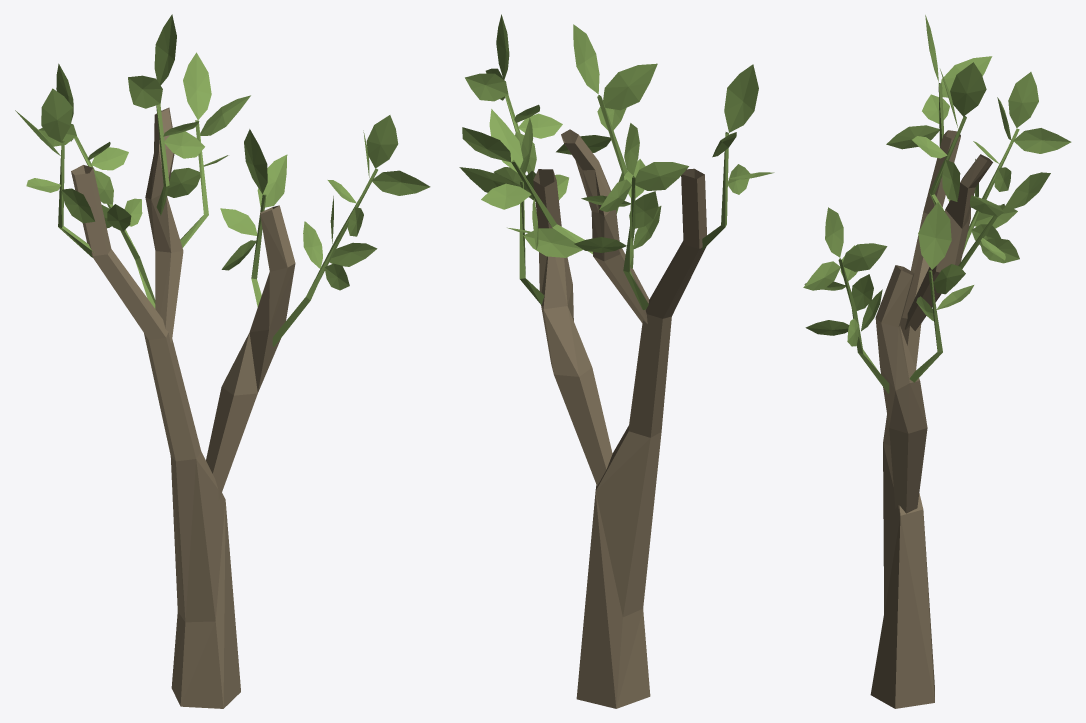
The model's file is Apple_2_1.fbx.
The picture shows the model from 3 angles, left to right: view 1: azimuth 30°, elevation 25°; view 2: azimuth 150°, elevation 25°; view 3: azimuth 270°, elevation 25°; orthographic projection. The views are drawn at different scales.
Parts seen in each view (by area): view 1: Apple_2_1; view 2: Apple_2_1; view 3: Apple_2_1.
Part boxes in pixels (x1,y1,x2,y2): Apple_2_1: (15, 14, 430, 708); Apple_2_1: (459, 14, 774, 708); Apple_2_1: (803, 15, 1071, 708).
Bounding box in the file's own units: 85.2 × 158 × 60.55.
